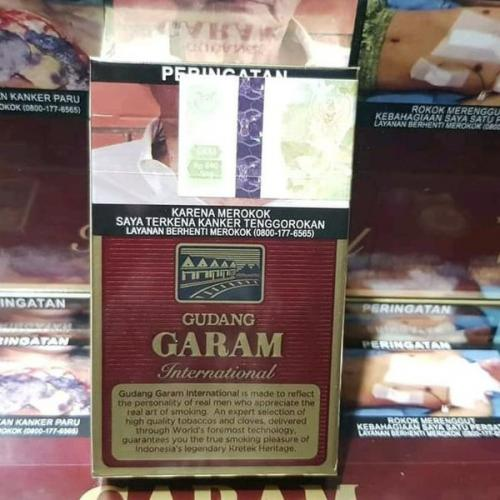garam filter: (83, 46, 340, 481)
